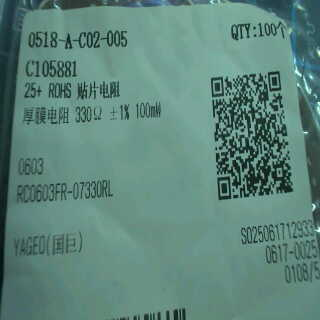330R: (75, 104, 103, 125)
